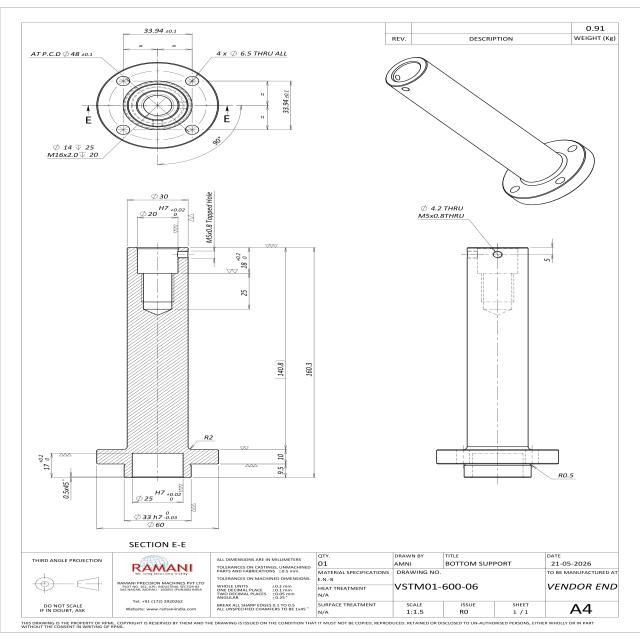dimension: (417, 205, 465, 219), (139, 205, 186, 218), (135, 489, 182, 502), (204, 192, 214, 244), (215, 50, 289, 57), (133, 510, 178, 520), (30, 50, 94, 57), (46, 151, 99, 158), (53, 144, 94, 151), (282, 89, 292, 114), (143, 27, 178, 34), (235, 252, 248, 270), (275, 359, 286, 380), (38, 454, 50, 472), (209, 134, 225, 146), (61, 478, 70, 499), (150, 193, 169, 200), (147, 521, 165, 528), (305, 362, 313, 376), (557, 472, 574, 478), (277, 466, 284, 475), (277, 453, 284, 461), (204, 435, 214, 440), (240, 290, 248, 296), (544, 258, 551, 262)
